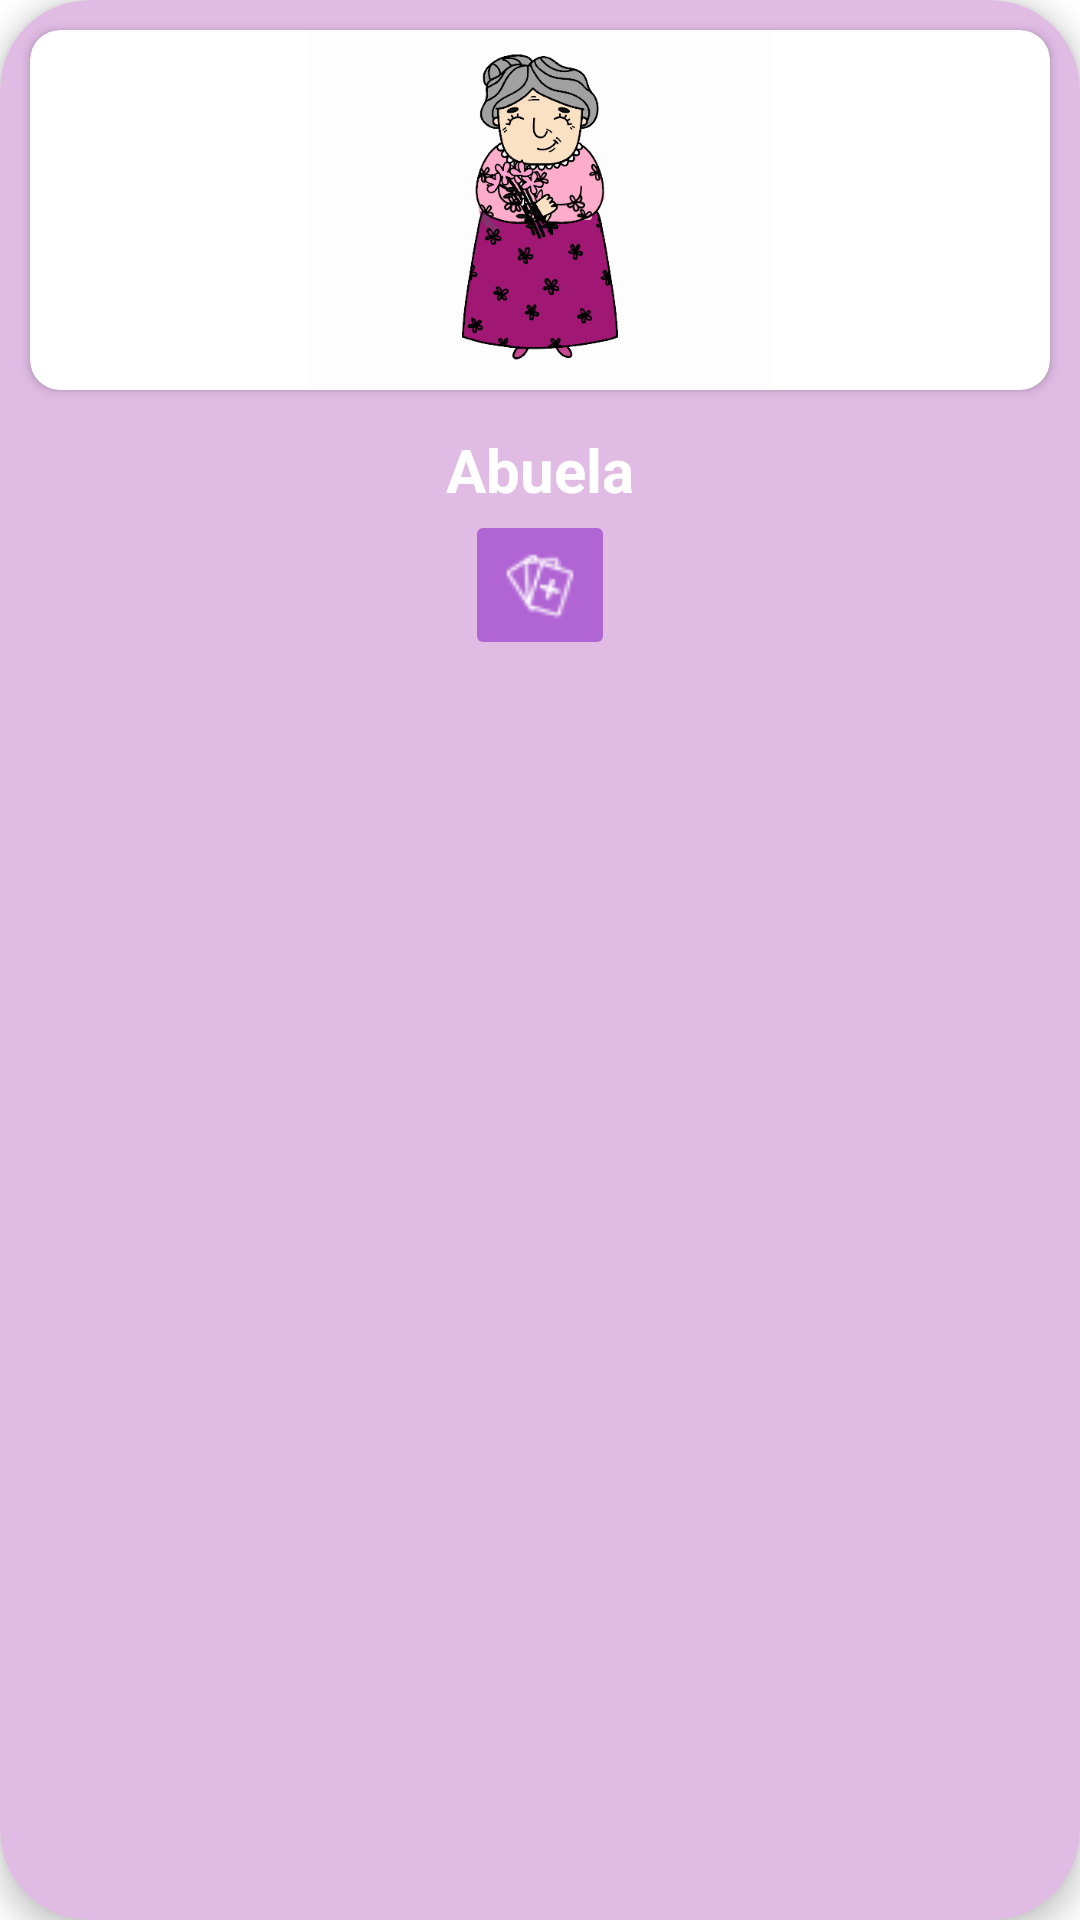

Named icons in this screenshot (1080*1920) and their centers, point (x, y):
anadir: point (540, 585)
